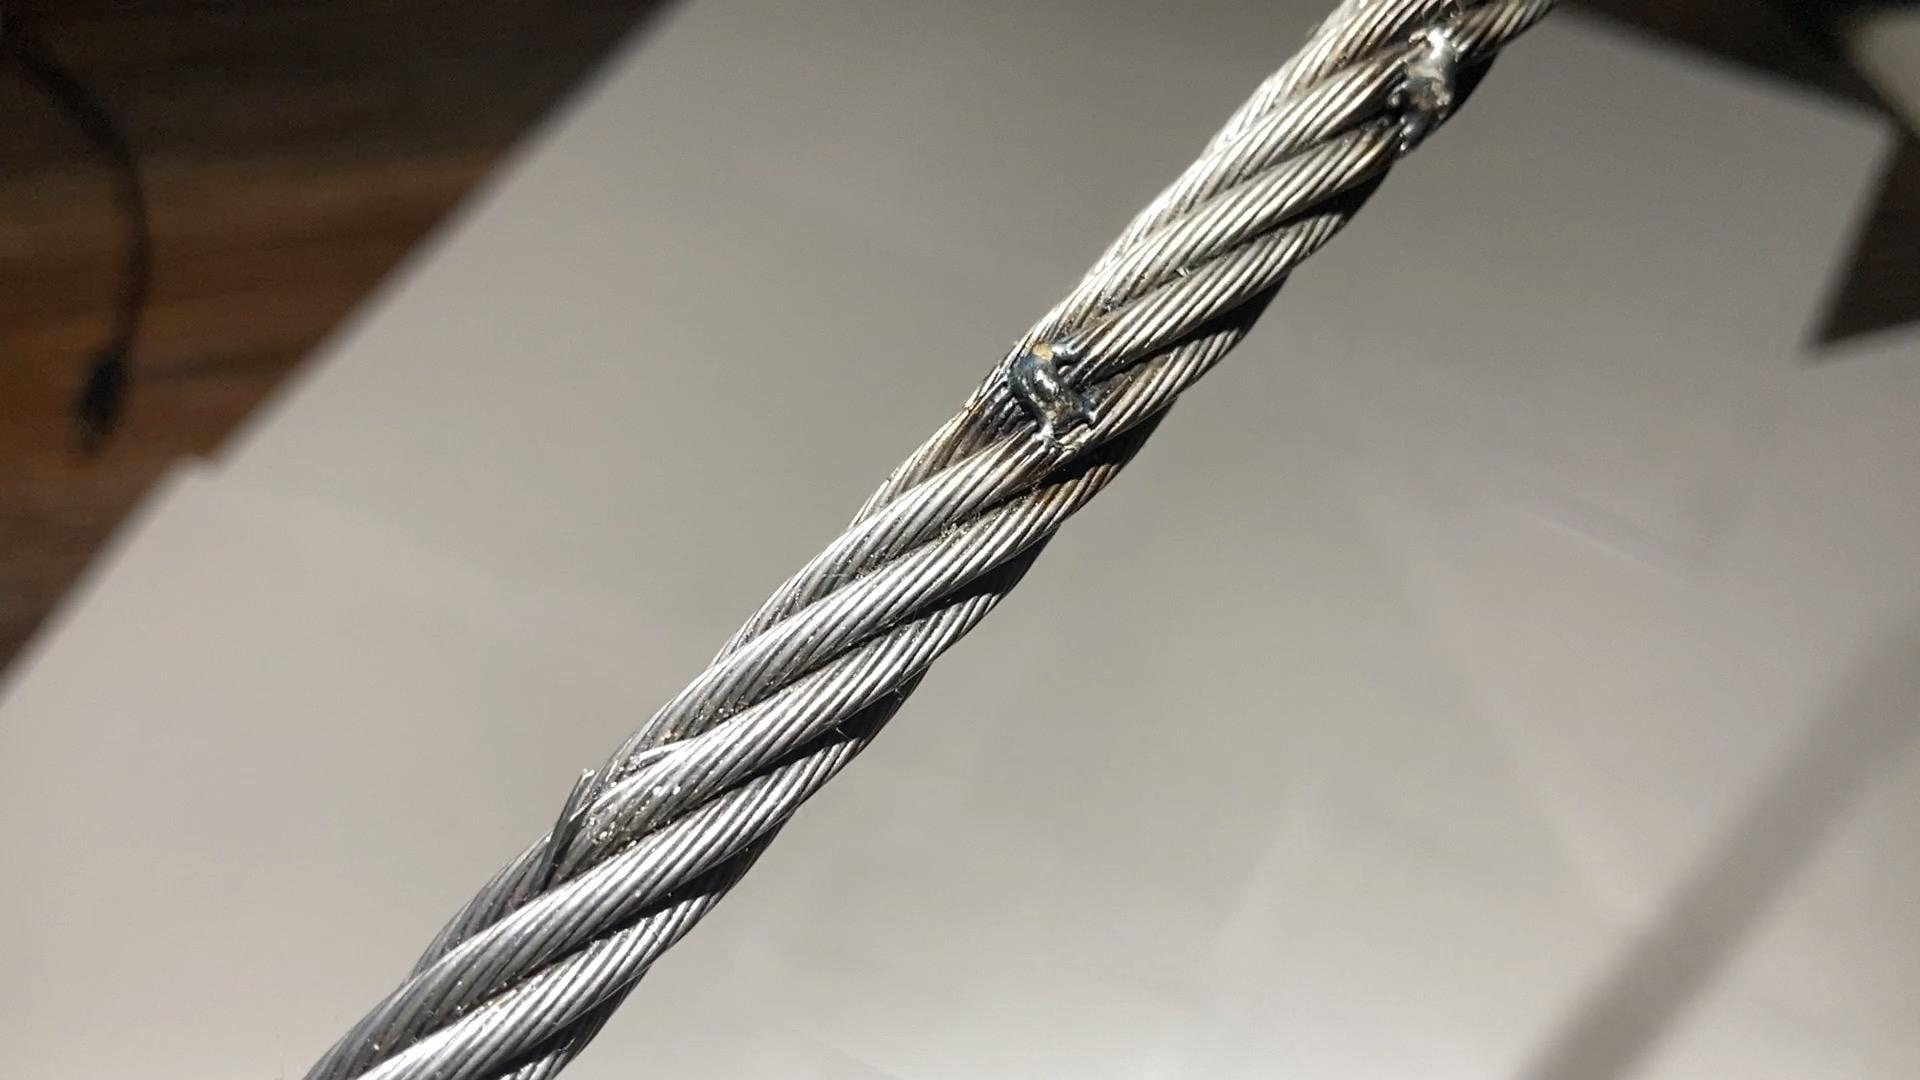break: (538, 737, 674, 837)
thunderbolt: (998, 327, 1130, 451), (1367, 17, 1494, 117)
